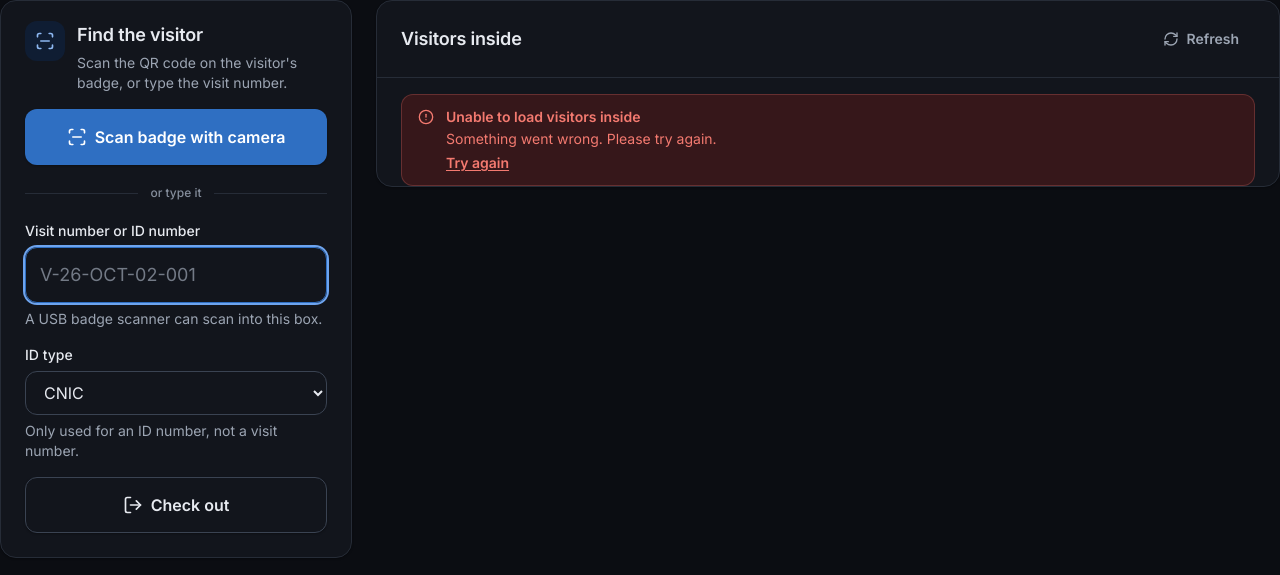
Test: CheckOutDesk states › offers a retry when the list cannot be loaded
Expected: the text "Unable to load visitors inside" is shown, [446,108,640,125]
Click the button "Try again": (478, 163) [446,153,509,173]
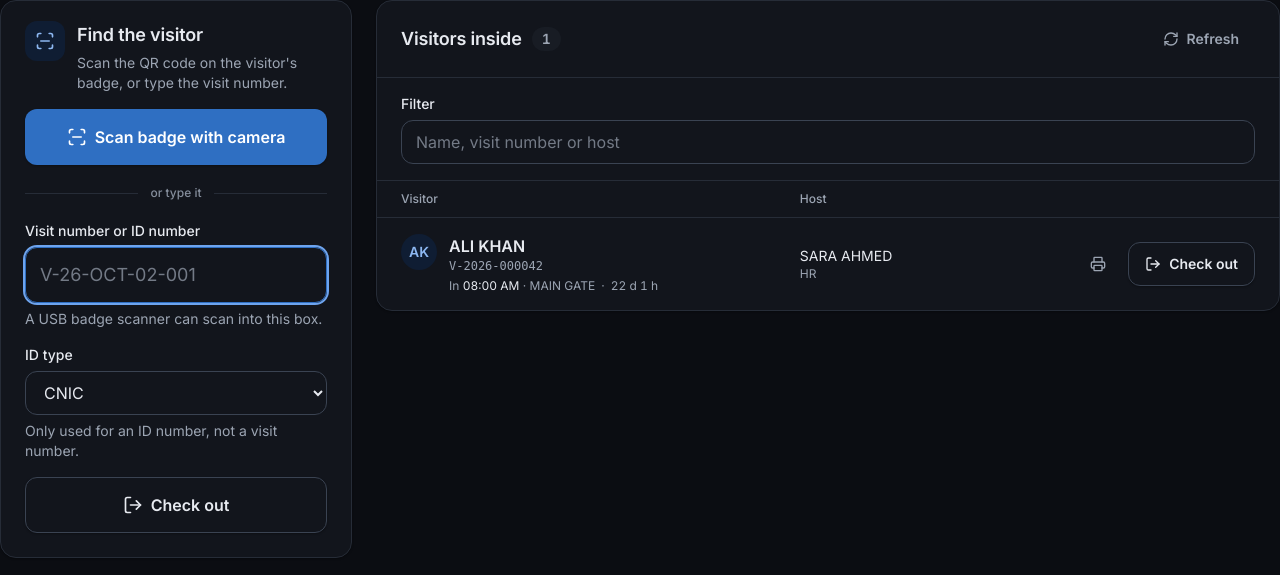
Expected: the text "Ali Khan" is shown, [449,236,525,256]
Expected: the text "Unable to load visitors inside" is gone
